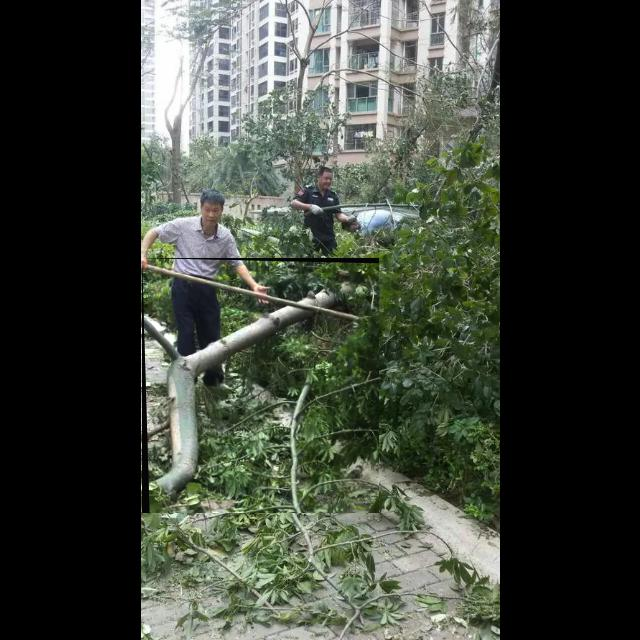Fallen Tree: (142, 258, 380, 514)
